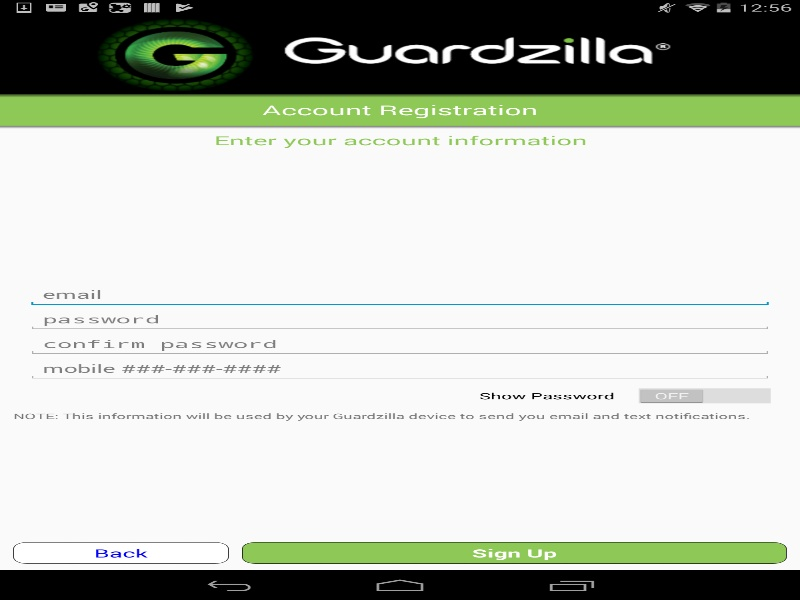Input: (26, 306, 773, 331), (26, 331, 773, 356), (26, 282, 773, 306), (26, 356, 773, 380)
